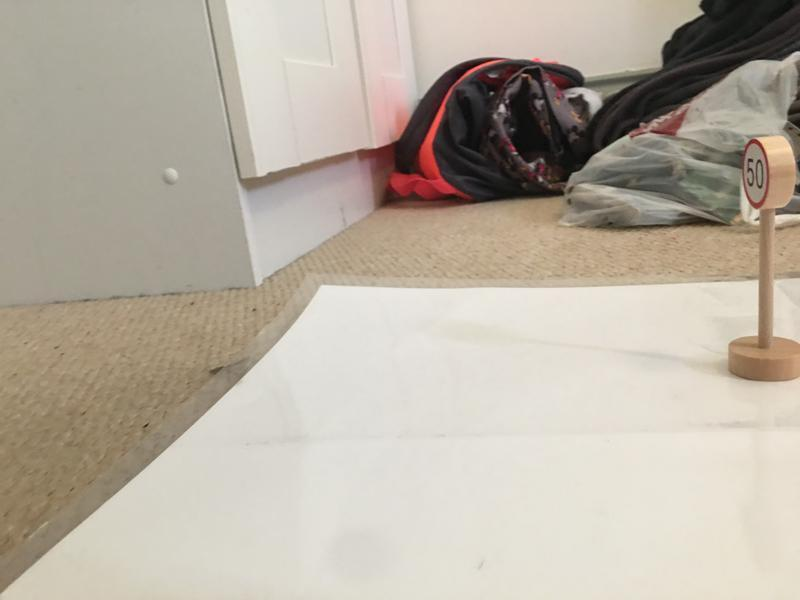Traffic_Sign_50: (746, 141, 770, 209)
